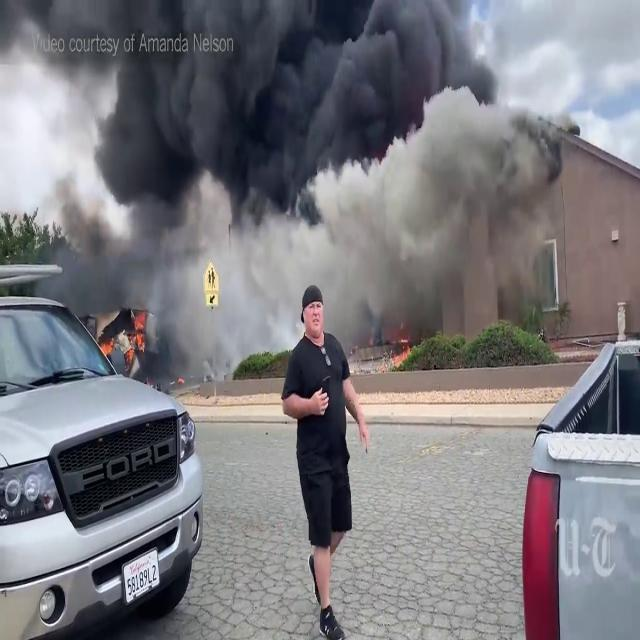Smoke: (17, 0, 557, 327)
